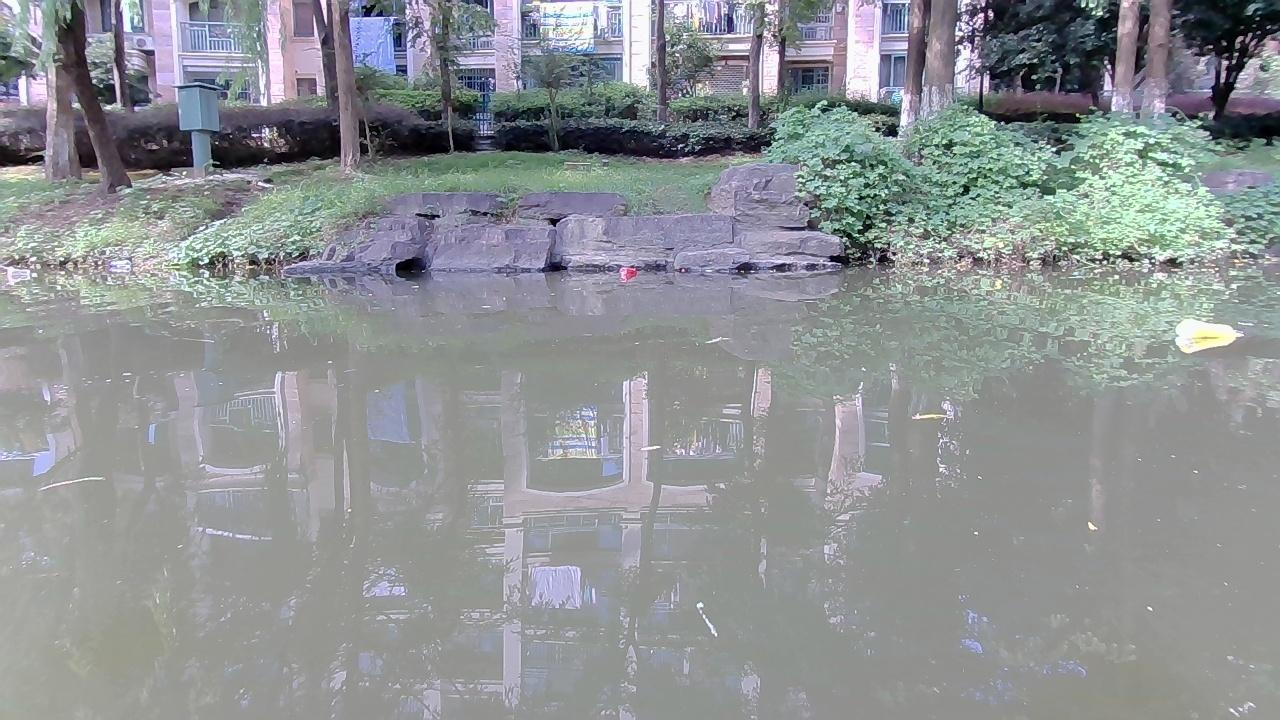bottle: (1171, 316, 1248, 343), (616, 264, 635, 280)
